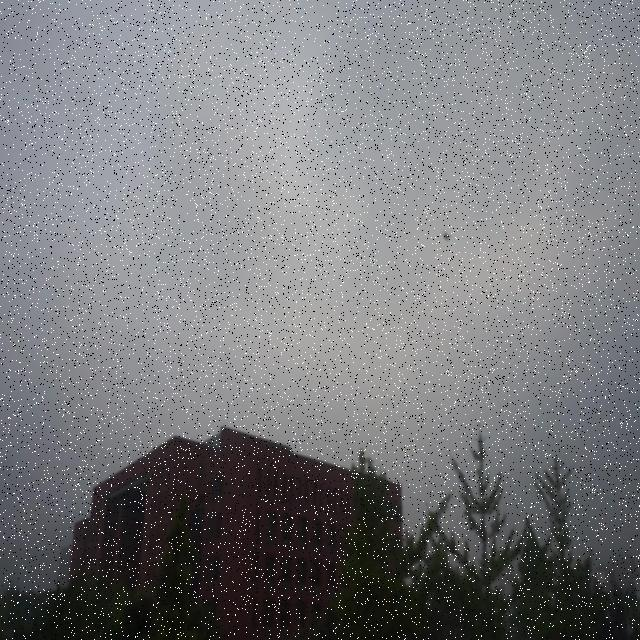UAV: (440, 229, 452, 241)
